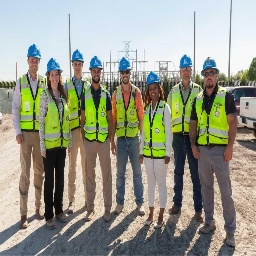helmet: (198, 57, 221, 79), (44, 57, 63, 80), (117, 56, 133, 78), (176, 56, 195, 74), (69, 48, 86, 68), (89, 54, 105, 75), (26, 42, 42, 62), (145, 72, 162, 90)
person: (198, 55, 236, 248), (39, 55, 71, 230), (168, 56, 201, 220), (112, 60, 146, 214), (21, 44, 47, 222), (87, 55, 113, 220), (142, 71, 167, 229)
vest: (196, 95, 229, 145), (46, 92, 69, 149), (20, 77, 44, 130), (171, 86, 196, 133), (145, 104, 167, 156), (85, 89, 107, 140), (116, 87, 138, 137)
